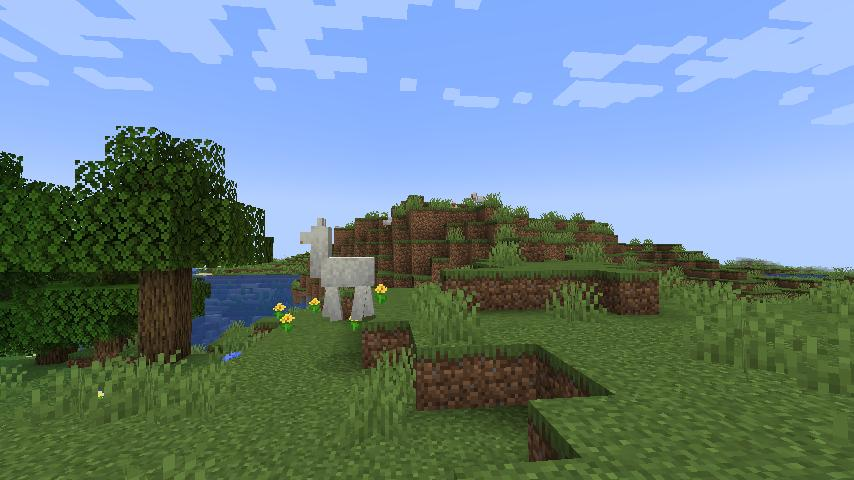llama: (298, 214, 382, 321)
